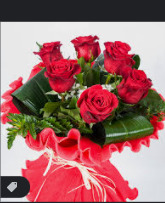RedRose: (77, 84, 119, 125), (40, 58, 81, 95), (117, 65, 153, 106), (98, 40, 133, 75), (70, 34, 103, 65)
